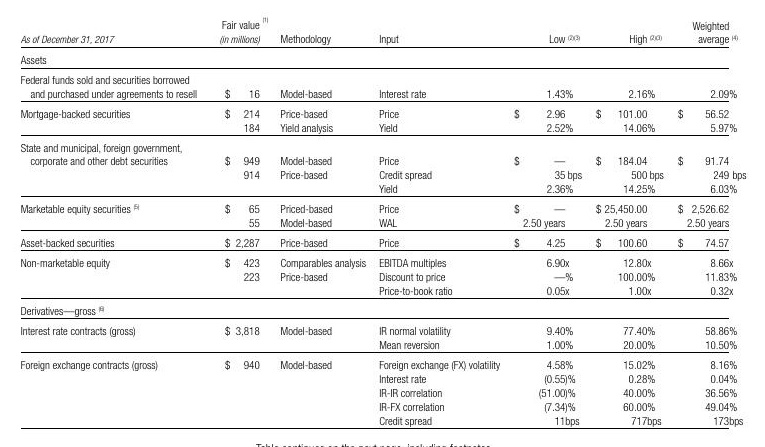table: (0, 0, 765, 447)
